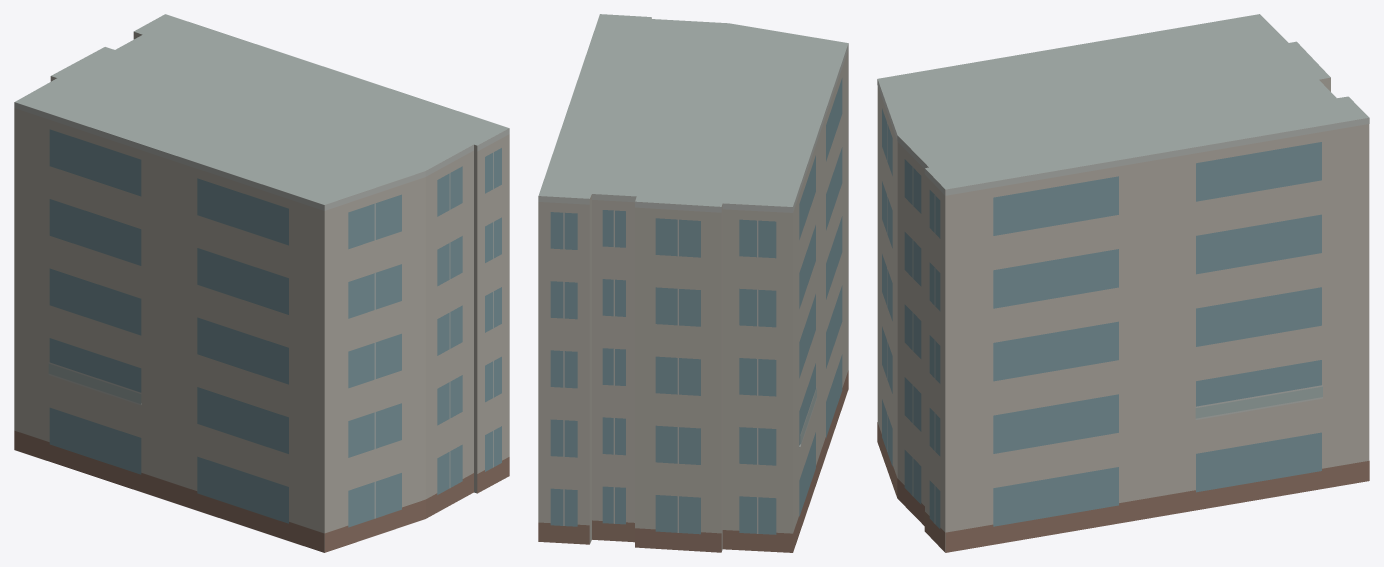
The model's file is survey-upis-32908720.glb.
3 views of the same model, side by side, from view 1: azimuth 30°, elevation 25°; view 2: azimuth 150°, elevation 25°; view 3: azimuth 270°, elevation 25° (orthographic). The views are drawn at different scales.
Visible parts, largest first — view 1: survey-upis-32908720.tmp; view 2: survey-upis-32908720.tmp; view 3: survey-upis-32908720.tmp.
Boxes of the visible parts, x1=… form: survey-upis-32908720.tmp: x1=14, y1=14, x2=509, y2=552; survey-upis-32908720.tmp: x1=538, y1=14, x2=848, y2=552; survey-upis-32908720.tmp: x1=877, y1=14, x2=1369, y2=552.
Size of the model in its own units: 14.84 by 14.3 by 17.56.
